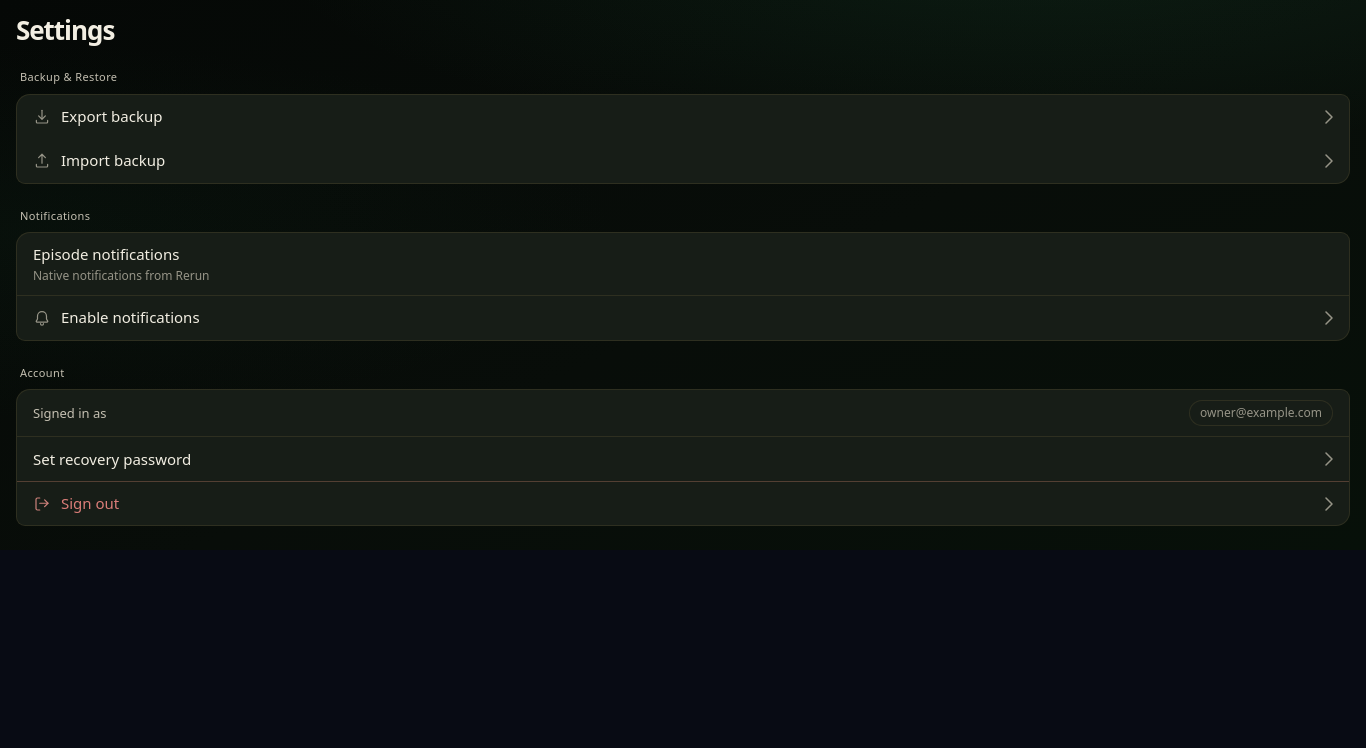
Test: Settings: Notifications section › requests permission only on explicit tap, then subscribes and reports enabled
Click the button "Enable notifications". click: (130, 317)
box: left=17, top=296, right=1349, bottom=340
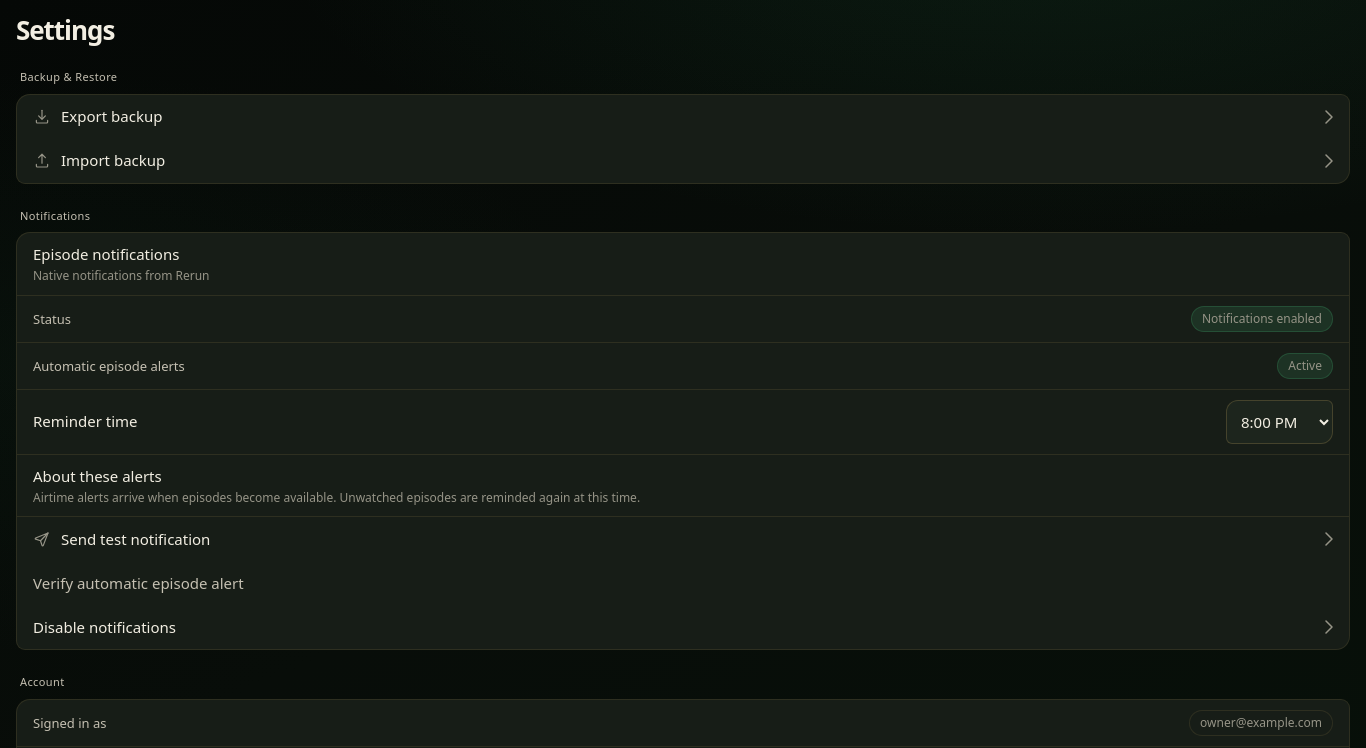
expect the text "Notifications enabled" is shown: met, box left=1191, top=306, right=1333, bottom=332
